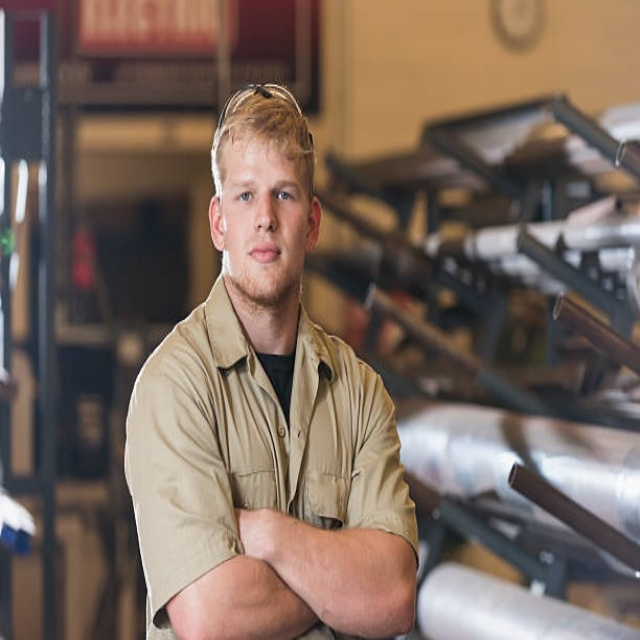Sin_gafas: (228, 171, 302, 218)
Sin_mascara: (243, 237, 282, 282)
